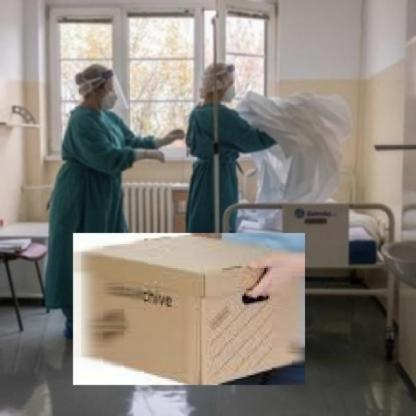-: (70, 231, 309, 388)
